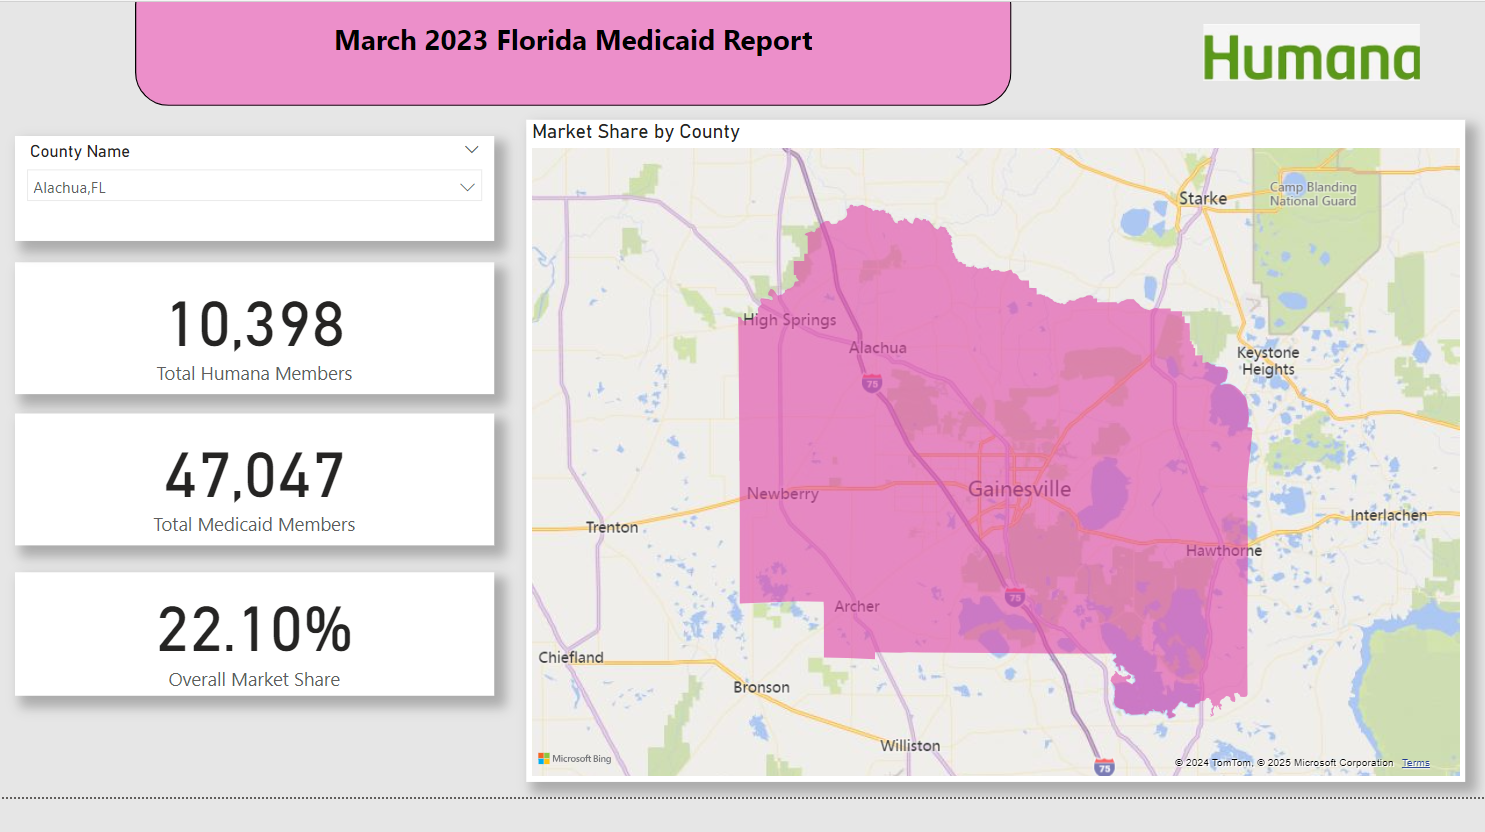

The dashboard page shown, as its layout file describes it:
{"tool":"powerbi","page":{"name":"Page 1","canvas":[1280,720],"ordinal":0},"visuals":[{"type":"filledMap","title":"Market Share by County","fields":{"Category":["data.County Name"]},"box":[453.8,136.2,808.8,570],"z":0},{"type":"card","fields":{"Values":["Sum(data.Count)"]},"box":[12.5,260,412.5,113.8],"z":1000},{"type":"card","fields":{"Values":["Sum(data.MMA Total)"]},"box":[12.5,390,412.5,113.8],"z":2000},{"type":"card","fields":{"Values":["data.Overall Market Share"]},"box":[12.5,526.2,412.5,106.2],"z":3000},{"type":"slicer","fields":{"Values":["data.County Name"]},"box":[12.5,151.2,412.5,90],"z":4000},{"type":"shape","box":[116.2,8.8,755,116.2],"z":4001},{"type":"image","box":[980,50,300,58.8],"z":4002}]}

Visuals, with their boxes in screenshot pixels (x1, y1, x2, y2), scaled from the page's 1280x720 canvas onto the 1485x832 screenshot:
"Market Share by County" filledMap: l=526, t=157, r=1465, b=816
card - Sum(data.Count): l=15, t=300, r=493, b=432
card - Sum(data.MMA Total): l=15, t=451, r=493, b=582
card - data.Overall Market Share: l=15, t=608, r=493, b=731
slicer - data.County Name: l=15, t=175, r=493, b=279
shape: l=135, t=10, r=1011, b=144
image: l=1137, t=58, r=1484, b=126
